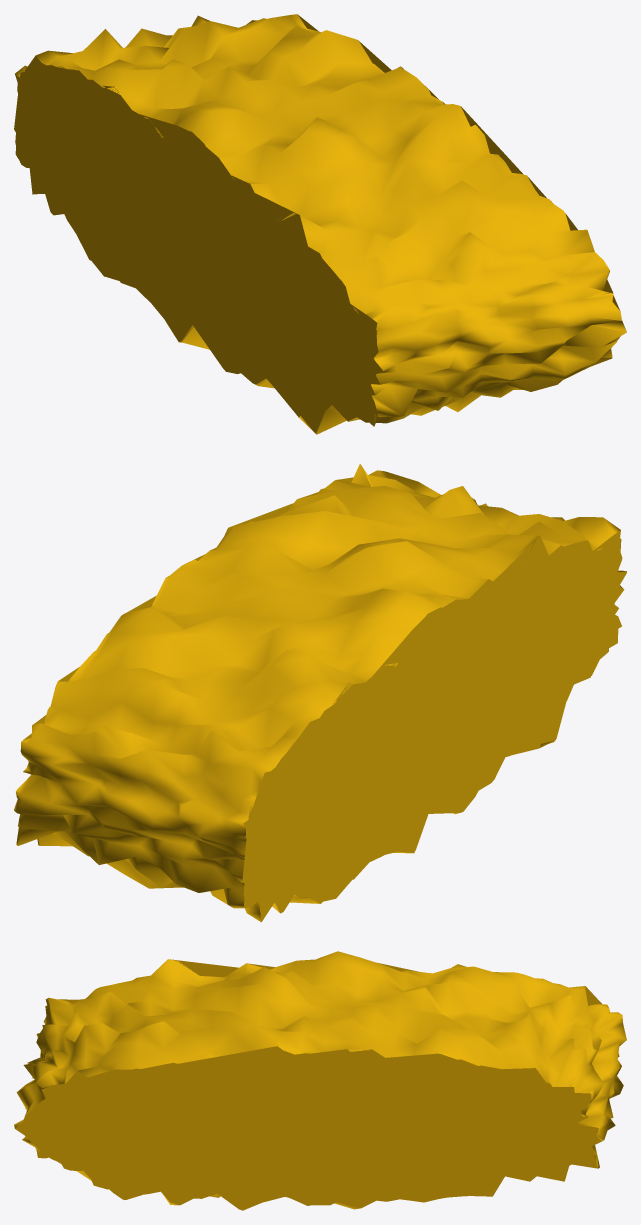
Rendered from 切ったチキン4.fbx.
The picture shows the model from 3 angles, top to bottom: view 1: azimuth 30°, elevation 25°; view 2: azimuth 150°, elevation 25°; view 3: azimuth 270°, elevation 25°; orthographic projection. The views are drawn at different scales.
Parts seen in each view (by area): view 1: オブジェクト; view 2: オブジェクト; view 3: オブジェクト.
Part boxes in pixels (bbox=[...]): オブジェクト: bbox=[14, 14, 626, 434]; オブジェクト: bbox=[14, 464, 626, 922]; オブジェクト: bbox=[14, 951, 626, 1210].
Size of the model in its own units: 0.6139 by 0.6349 by 1.79.
